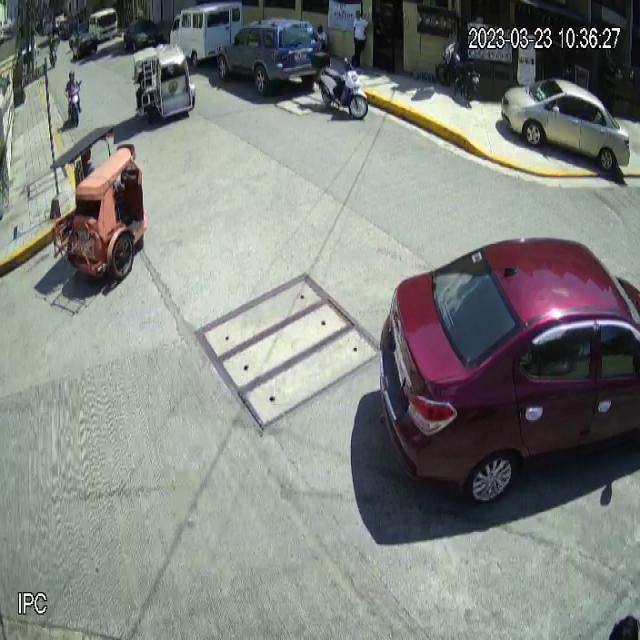Car: (376, 234, 640, 507), (500, 76, 631, 175), (216, 17, 322, 98)
Motorcycle: (310, 49, 370, 121)
Tricycle: (49, 125, 148, 284), (132, 42, 196, 121)
Van: (169, 1, 245, 67)
